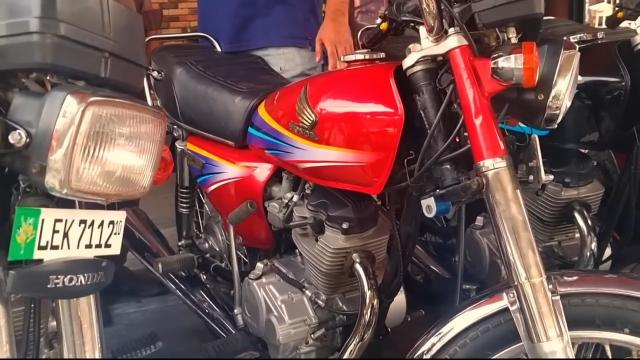plate: (7, 206, 129, 260)
